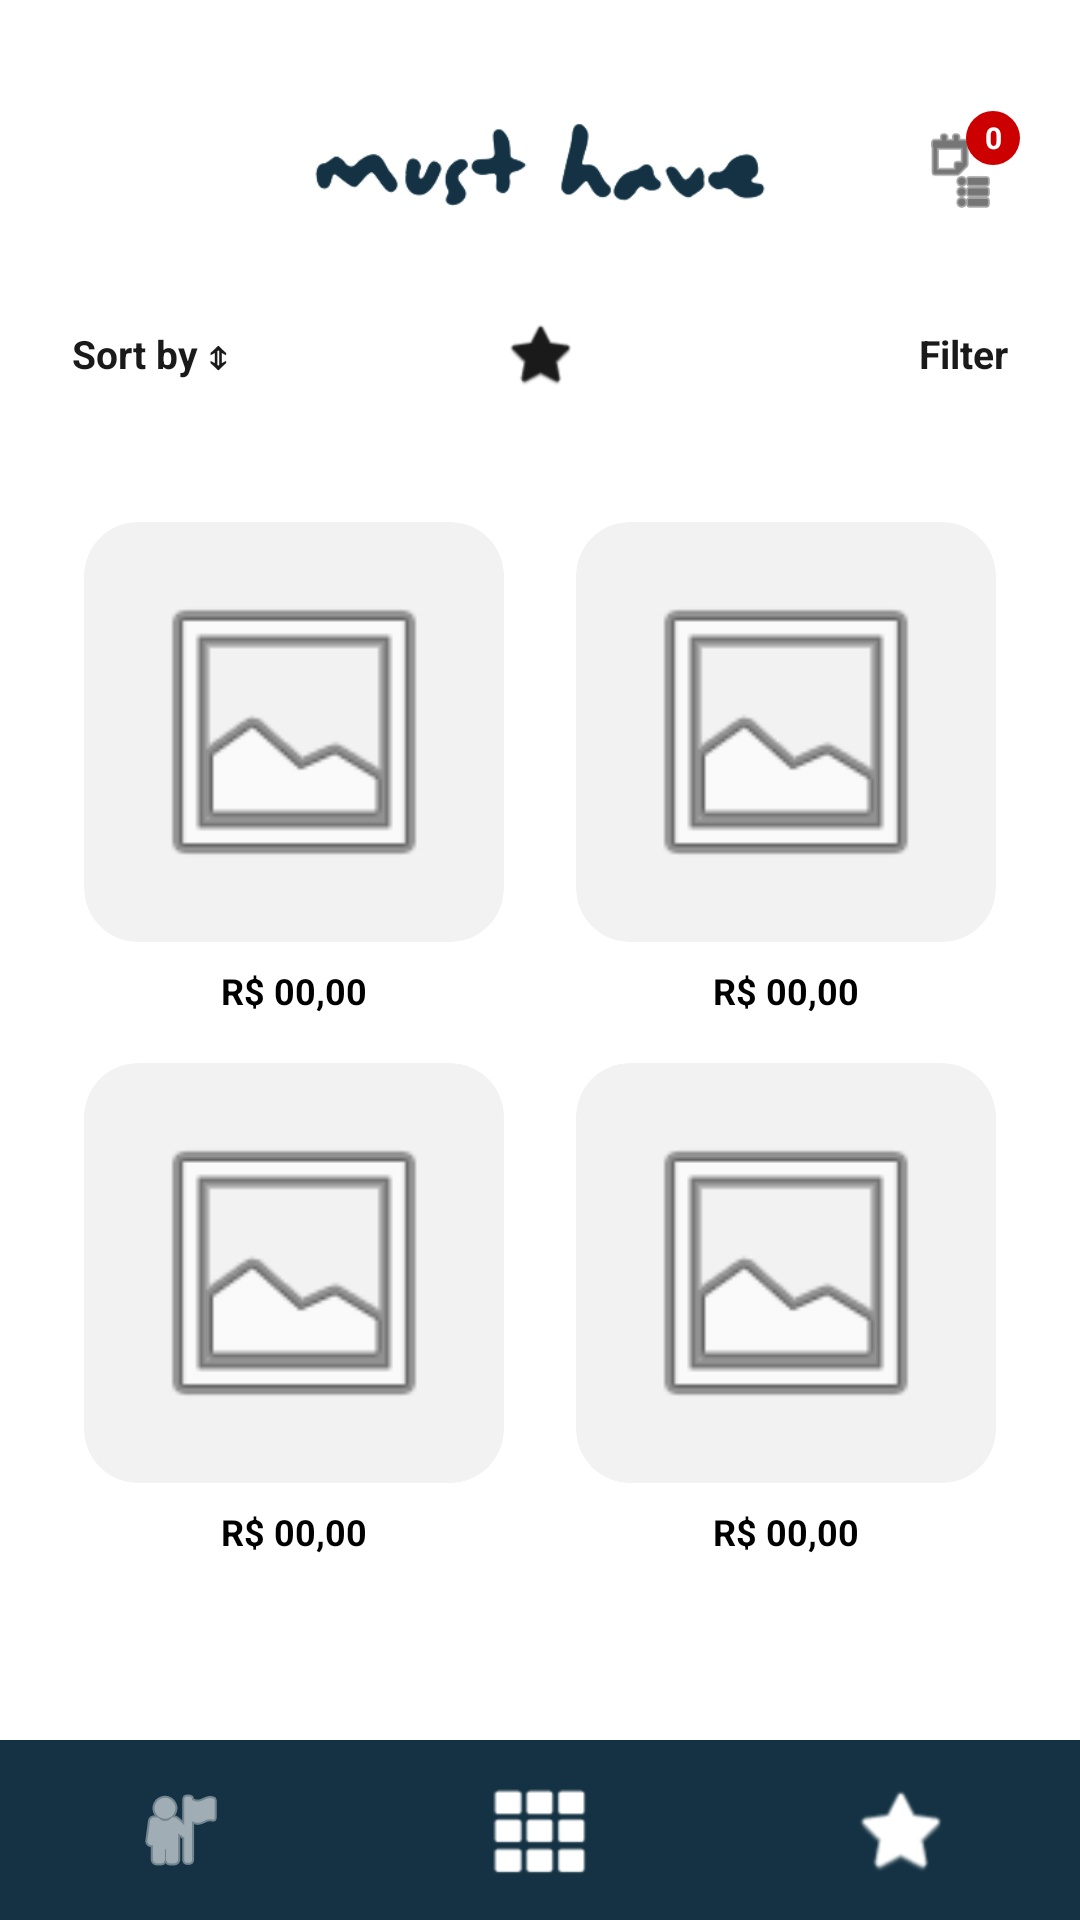

Icon bounding boxes for this 1080px x 1920px phone screenshot, format (x1, y1, x2, y2):
agenda: (931, 129, 1002, 208)
dialer: (493, 1789, 586, 1873)
myplaces: (145, 1794, 217, 1866)
star off: (511, 325, 571, 384), (861, 1792, 941, 1870)
